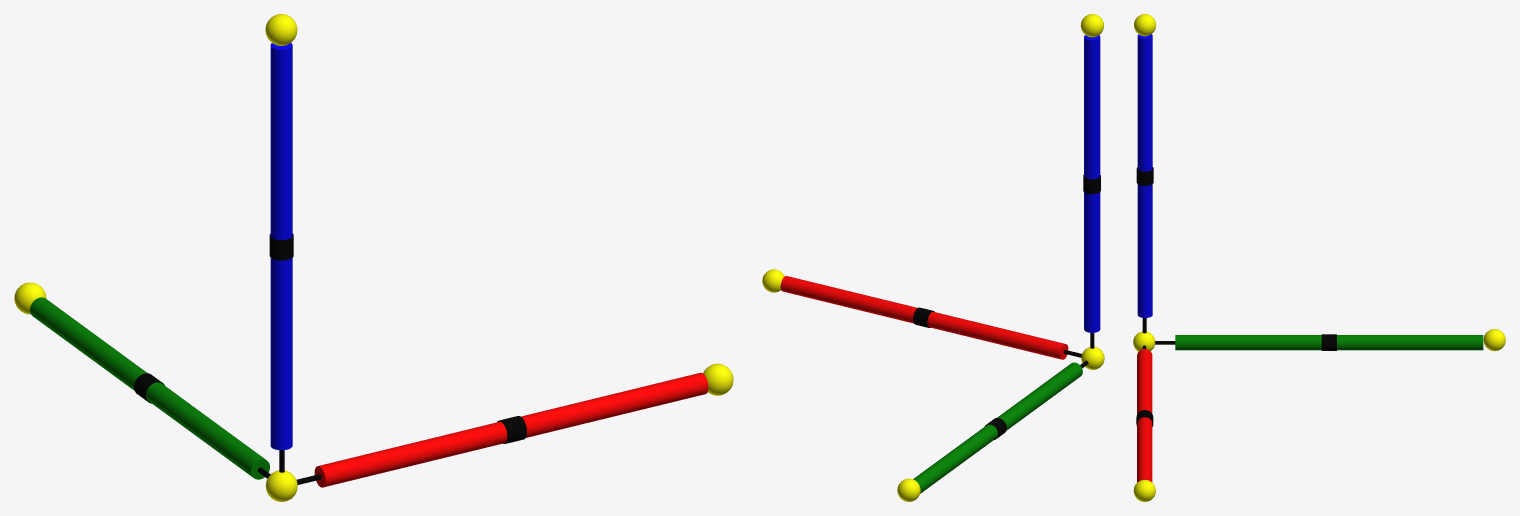
The model's file is axis2.dae.
3 renders of one model, left to right at view 1: azimuth 30°, elevation 25°; view 2: azimuth 150°, elevation 25°; view 3: azimuth 270°, elevation 25°, orthographic. The views are drawn at different scales.
Visible parts, largest first — view 1: z-rod, x-rod, y-rod, Model; view 2: z-rod, x-rod, y-rod, Model; view 3: y-rod, z-rod, x-rod, Model.
Boxes of the visible parts, x1,y1,x2,y2 form: z-rod: [270, 43, 292, 450]; x-rod: [314, 372, 708, 487]; y-rod: [30, 297, 269, 479]; Model: [14, 14, 733, 501]; z-rod: [1084, 35, 1100, 332]; x-rod: [780, 276, 1068, 359]; y-rod: [913, 362, 1082, 493]; Model: [762, 14, 1104, 501]; y-rod: [1175, 335, 1483, 350]; z-rod: [1137, 34, 1152, 317]; x-rod: [1137, 349, 1152, 482]; Model: [1133, 14, 1505, 501].
Size of the model in its own units: 4.85 by 4.84 by 4.84.
